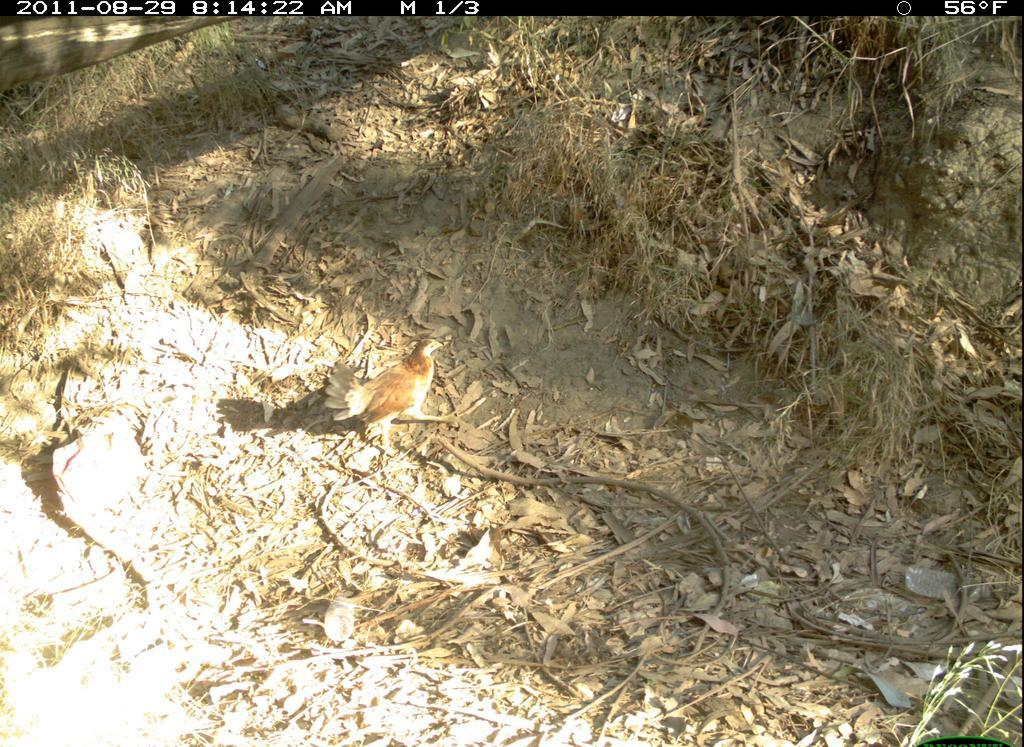bird: (322, 336, 462, 461)
